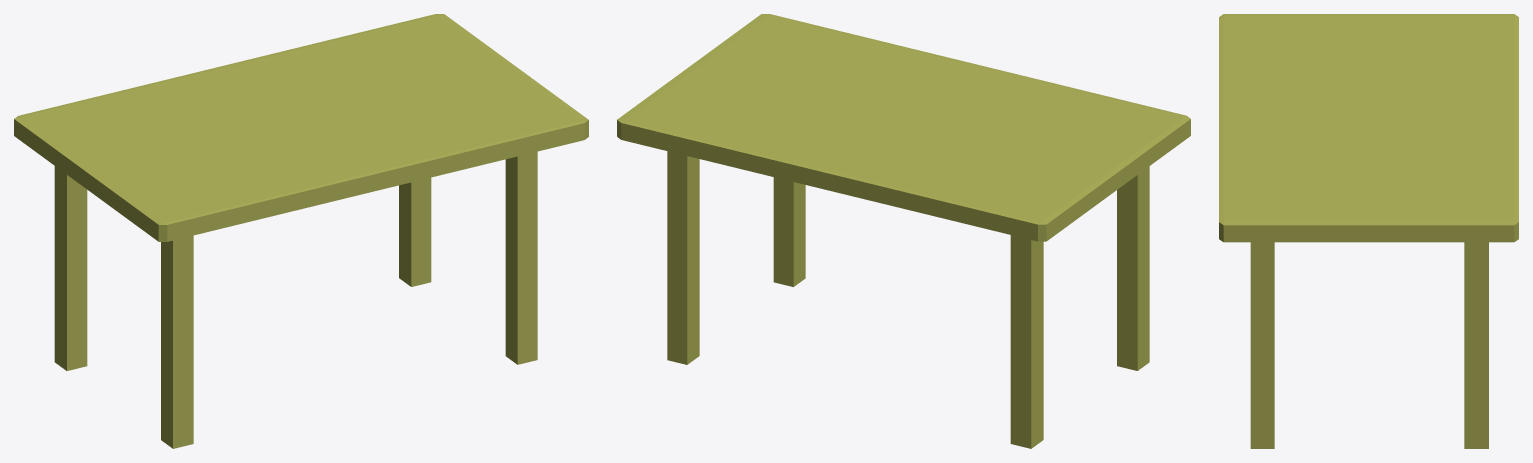
File: KitchenTable_Material.fbx
3 views of the same model, side by side, from view 1: azimuth 30°, elevation 25°; view 2: azimuth 150°, elevation 25°; view 3: azimuth 270°, elevation 25° (orthographic).
Parts seen in each view (by area): view 1: Kitchen Table; view 2: Kitchen Table; view 3: Kitchen Table.
Boxes of the visible parts, x1=… form: Kitchen Table: x1=14, y1=14, x2=588, y2=448; Kitchen Table: x1=617, y1=14, x2=1190, y2=448; Kitchen Table: x1=1219, y1=14, x2=1518, y2=448.
Size of the model in its own units: 0.9403 by 0.5035 by 0.5642.
